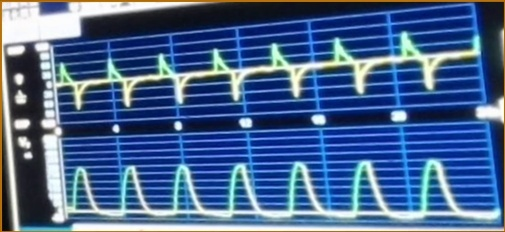Accumulation Flow: (57, 30, 473, 112)
Volume: (68, 155, 491, 224)
